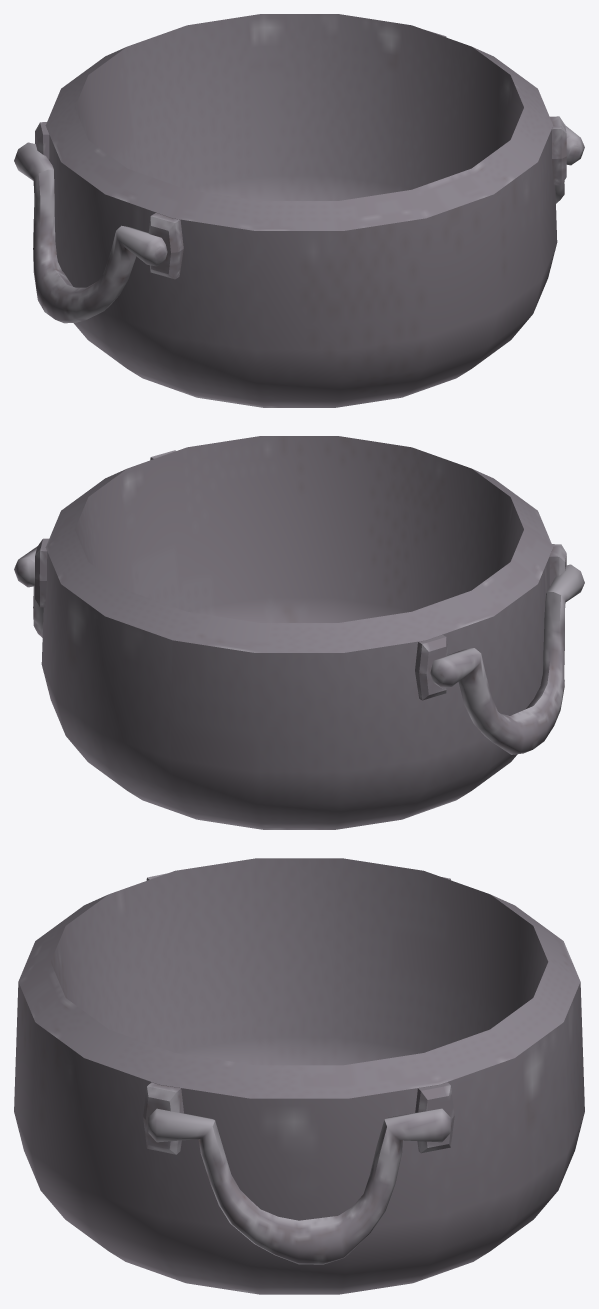
Rendered from Pot_1.glb.
3 renders of one model, top to bottom at view 1: azimuth 30°, elevation 25°; view 2: azimuth 150°, elevation 25°; view 3: azimuth 270°, elevation 25°, orthographic. The views are drawn at different scales.
Visible parts, largest first — view 1: Pot_1; view 2: Pot_1; view 3: Pot_1.
Boxes of the visible parts, x1,y1,x2,y2 form: Pot_1: (14,14,584,407); Pot_1: (14,436,584,829); Pot_1: (14,858,584,1294).
Bounding box in the file's own units: 0.5393 × 0.2238 × 0.4861.
1 material, 1 textured.
